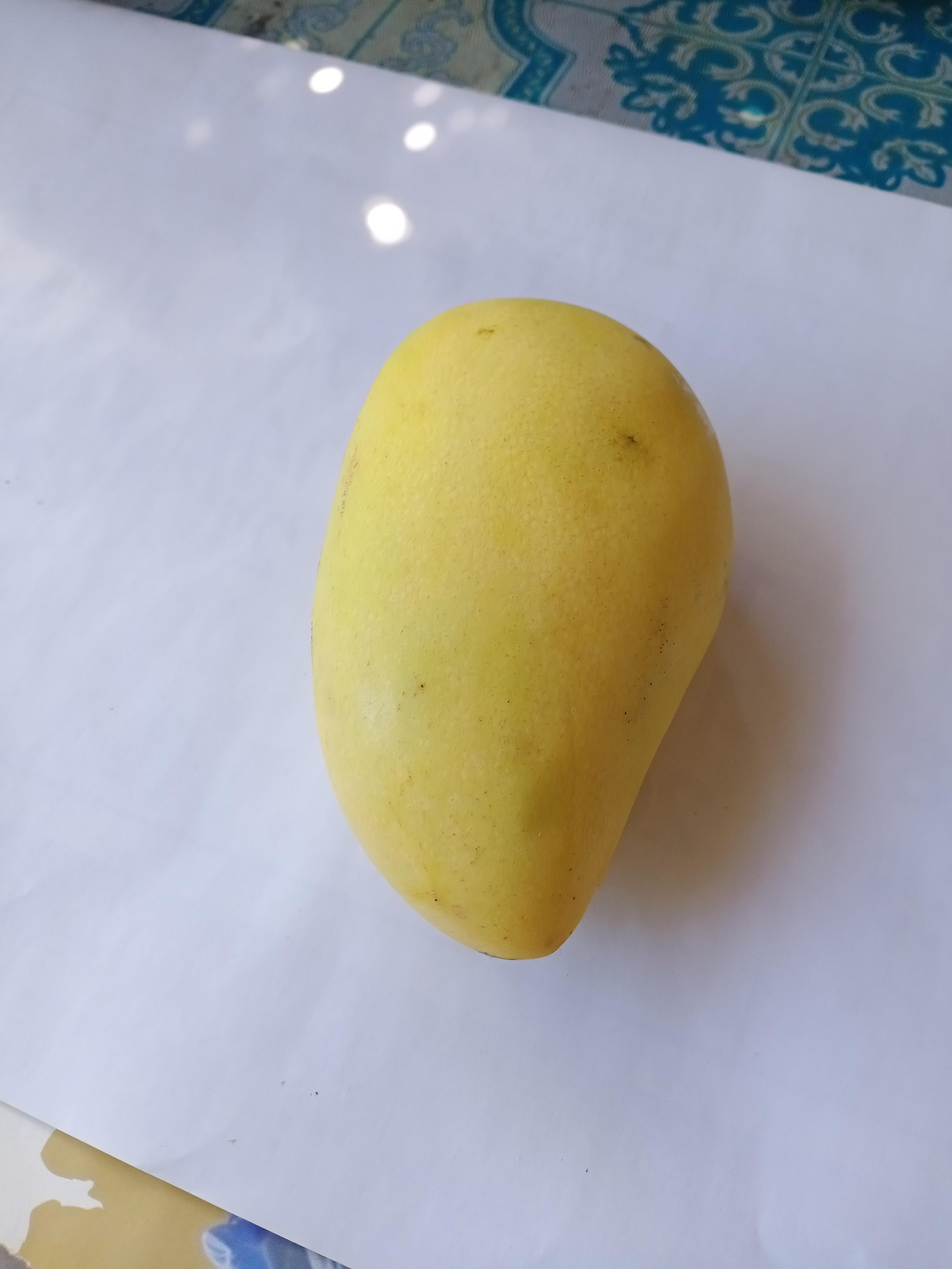Mango Ripe: (275, 221, 768, 1052)
